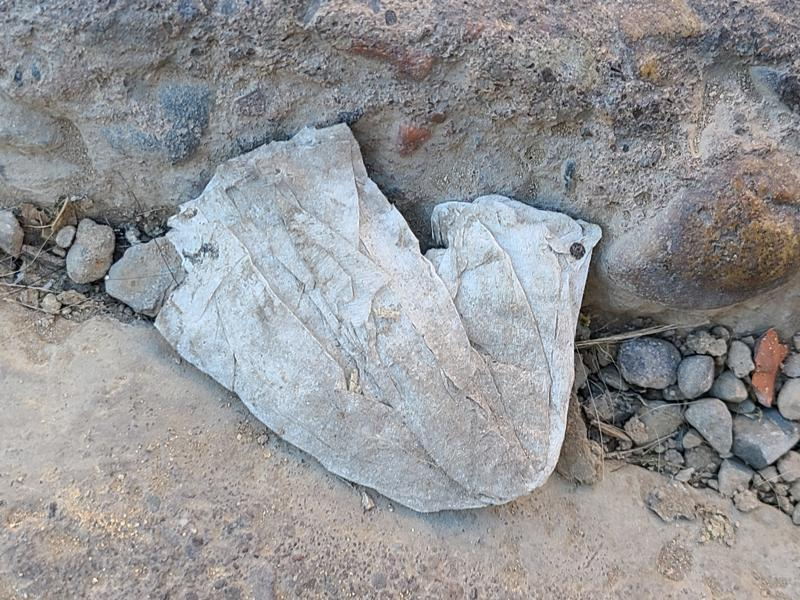papel: (102, 108, 605, 517)
